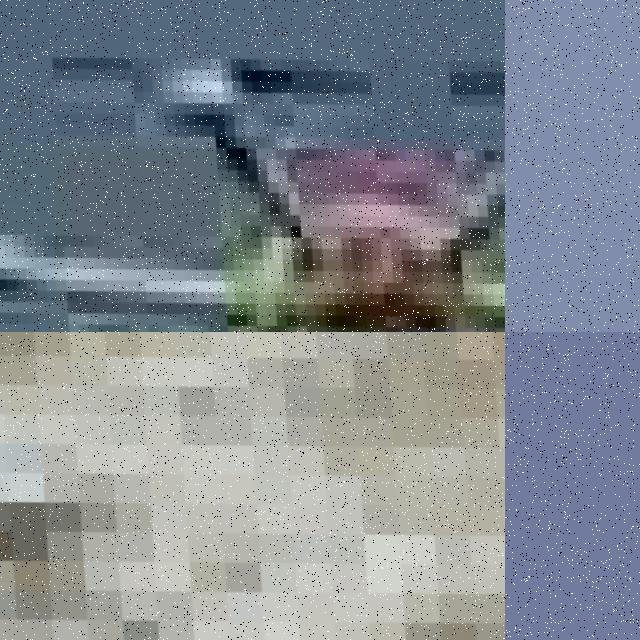0: (0, 0, 505, 332)
drone: (0, 332, 505, 640)
